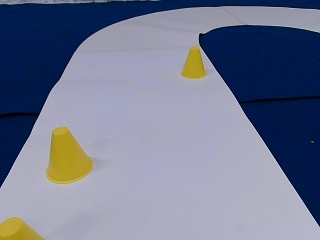cone: (45, 128, 94, 182), (0, 216, 44, 239), (180, 47, 205, 78)
